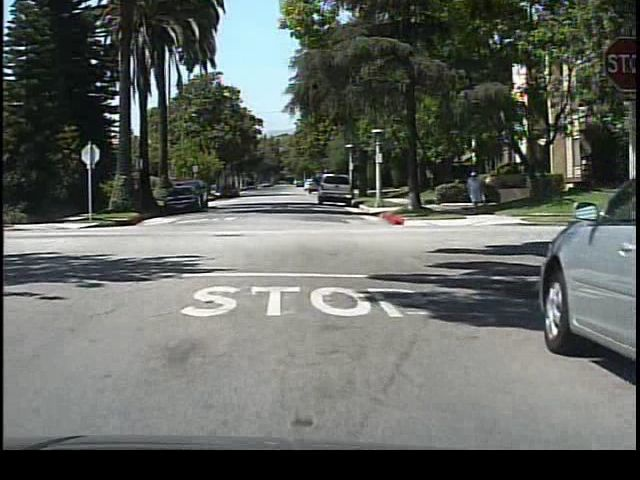person: (463, 168, 484, 216)
